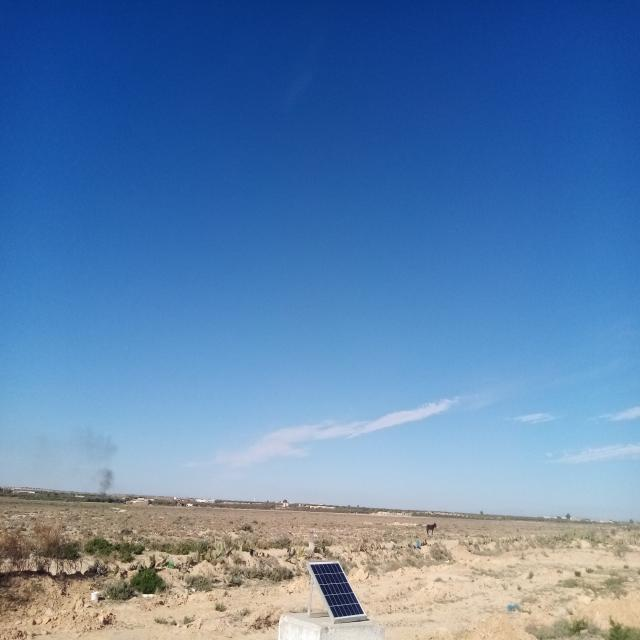Normal Solar Panel: (308, 560, 366, 619)
